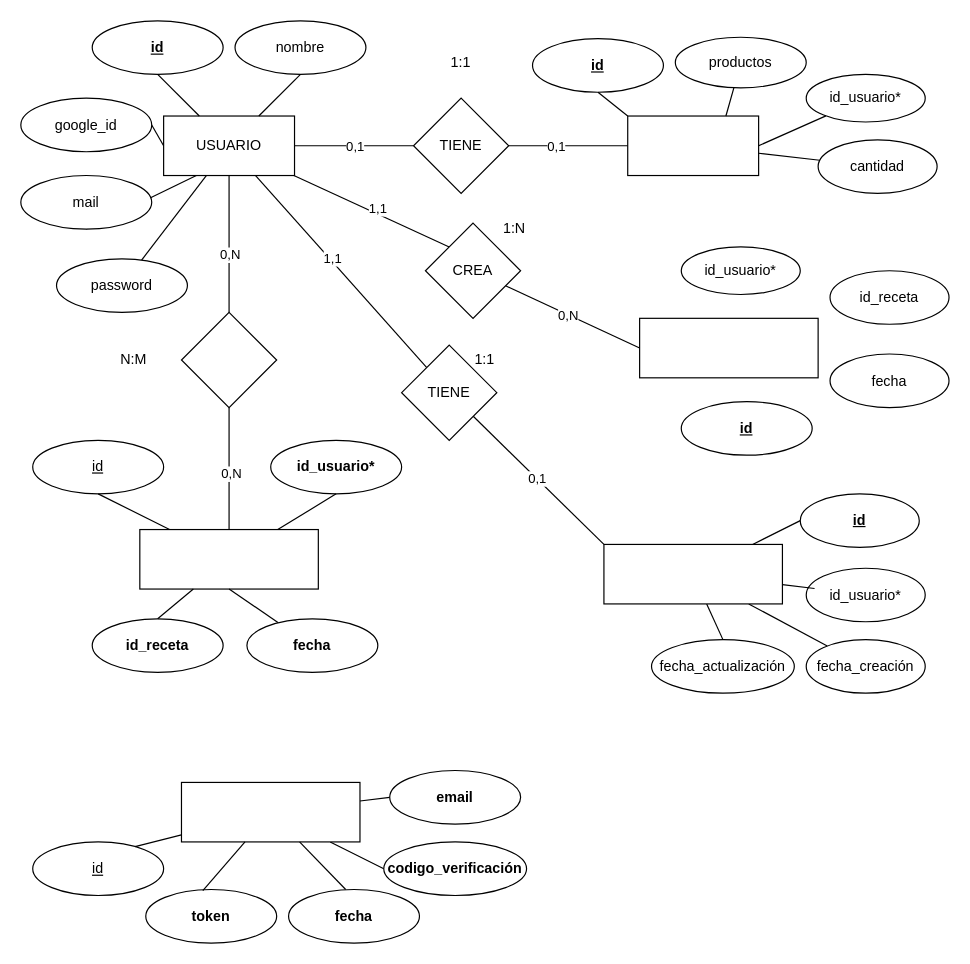
Image size: 970x964. Some labels were removed from this diagram. Each missing label, with the centre of its shape:
"ALMACENA" belongs at point (228, 359).
"LISTACOMPRA" belongs at point (693, 145).
"PASSWORD_RESET" belongs at point (270, 811).
"PLAN_ALIMENTACION" belongs at point (692, 573).
"RECETASCREADAS" belongs at point (728, 347).
"RECETASGUARDADAS" belongs at point (228, 558).
